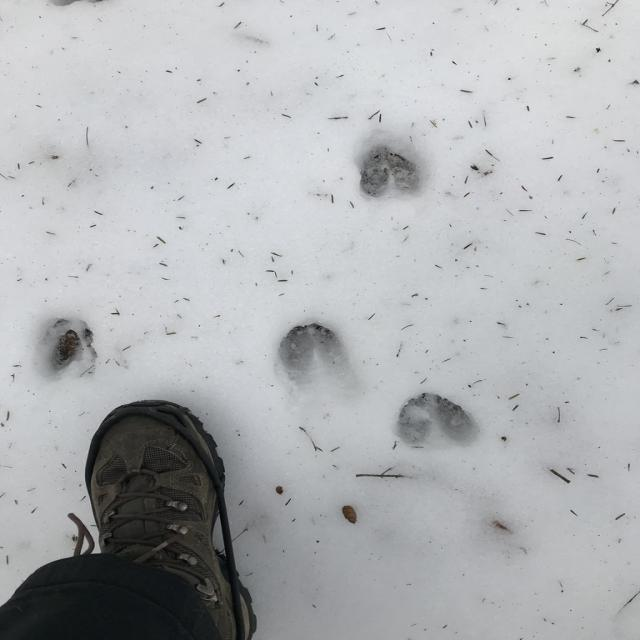deer: (402, 392, 478, 447), (282, 322, 345, 378), (42, 316, 100, 376), (362, 147, 422, 195)
